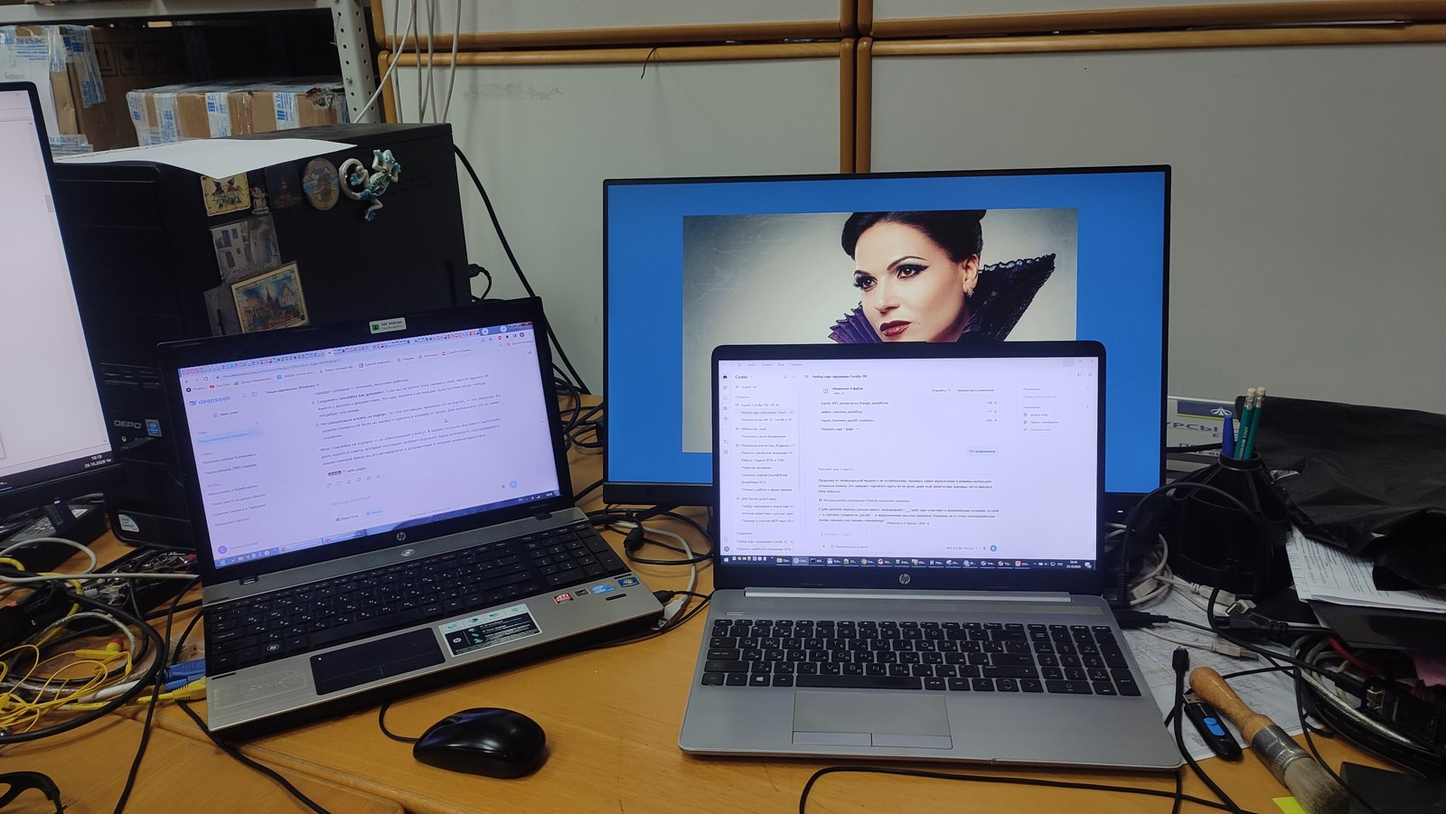laptop: (155, 296, 666, 737), (676, 340, 1185, 772)
